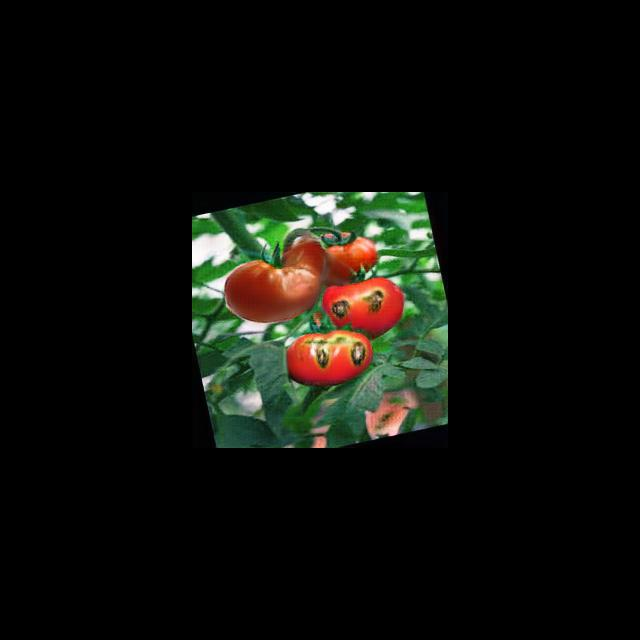tomato: (225, 262, 320, 324), (323, 276, 404, 340), (288, 331, 372, 388)
